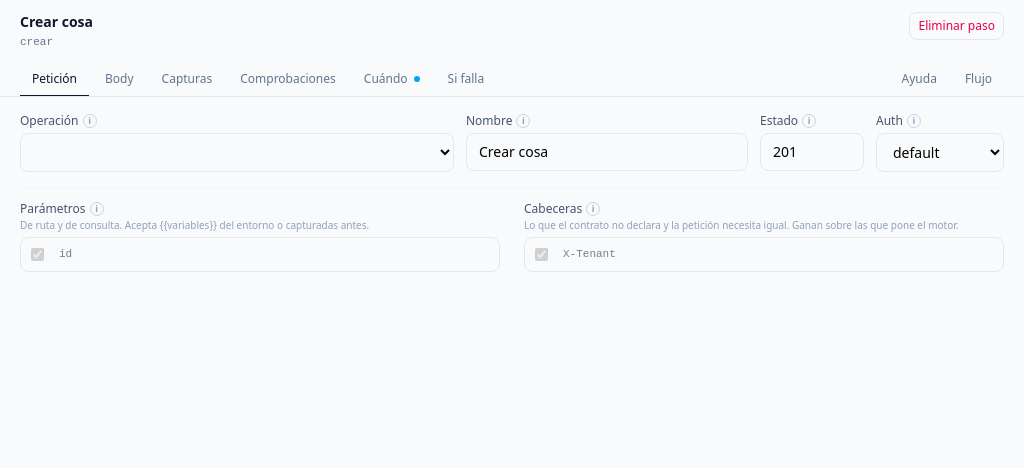
Test: lo que falta en el documento › «Solo si…» sin valor y «Una vez por elemento» sin tope
Click the tab "Cuándo" at (392,80), box [352,62,432,96]
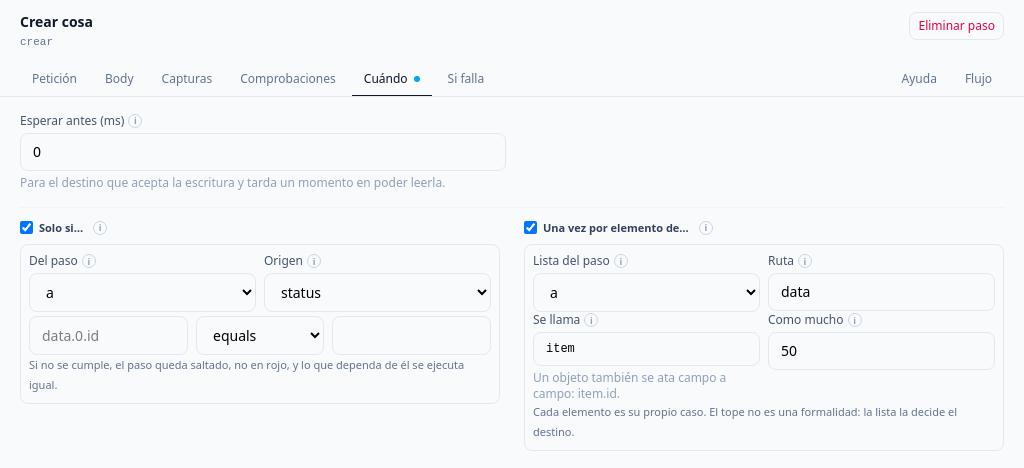
Expected: the field named "Valor de la condición" is empty, [332,316,491,355]
Now the number field below "Como mucho" holds "50", box [768,332,995,370]
